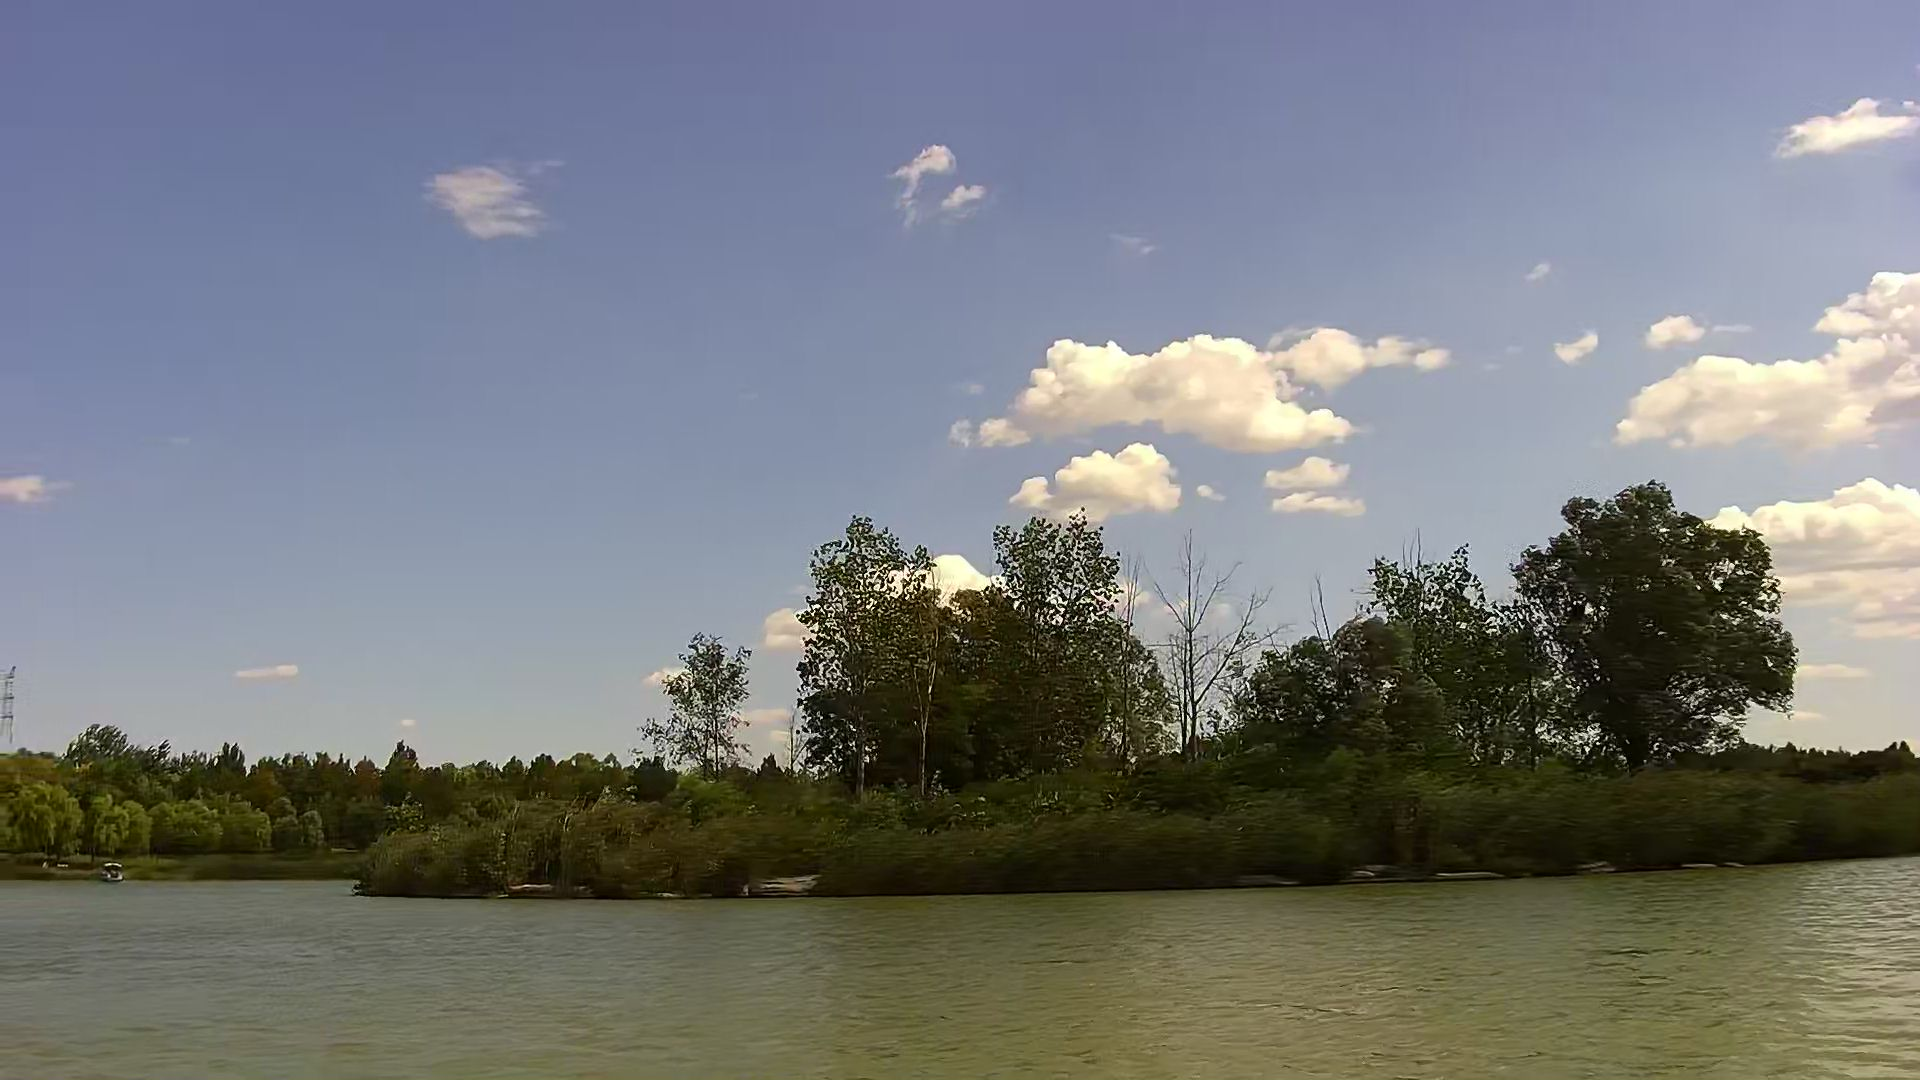rock: (742, 873, 824, 895), (508, 881, 578, 891)
